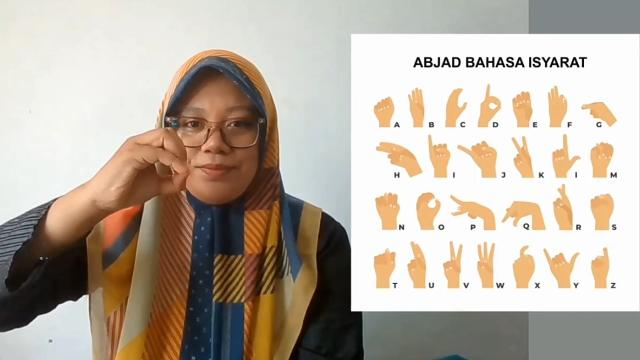O: (91, 126, 193, 212)
